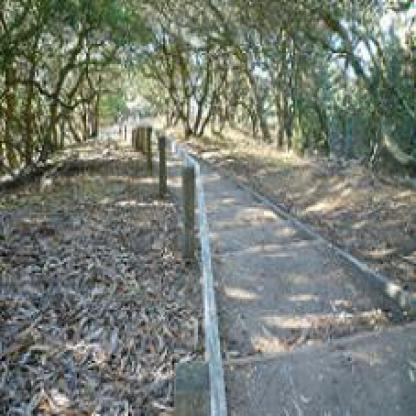stair_down: (209, 253, 377, 366)
